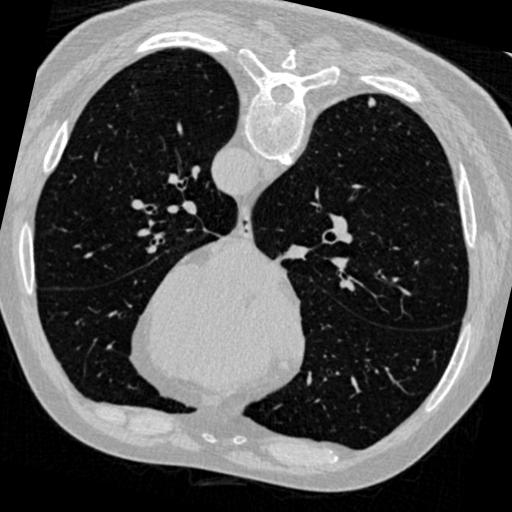nodule: (364, 96, 380, 112)
